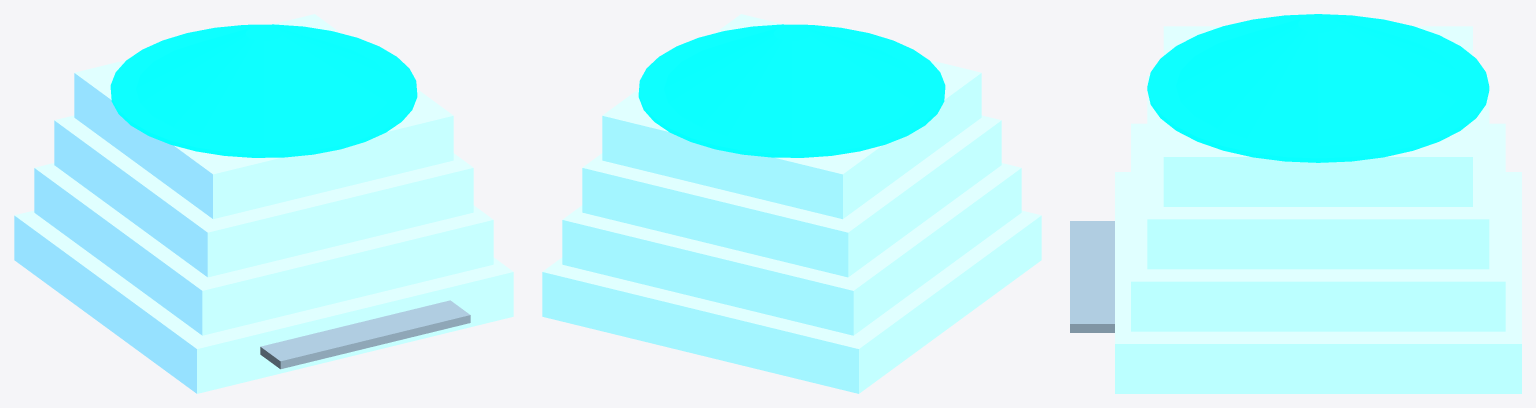
The model's file is aether_link_tower.glb.
3 renders of one model, left to right at view 1: azimuth 30°, elevation 25°; view 2: azimuth 150°, elevation 25°; view 3: azimuth 270°, elevation 25°, orthographic. The views are drawn at different scales.
Parts seen in each view (by area): view 1: aether_link_tower; view 2: aether_link_tower; view 3: aether_link_tower.
Boxes of the visible parts, <box> form: aether_link_tower: <box>14,14,513,393</box>; aether_link_tower: <box>542,14,1041,393</box>; aether_link_tower: <box>1070,14,1521,393</box>.
Size of the model in its own units: 36.6 by 28.16 by 40.63.
